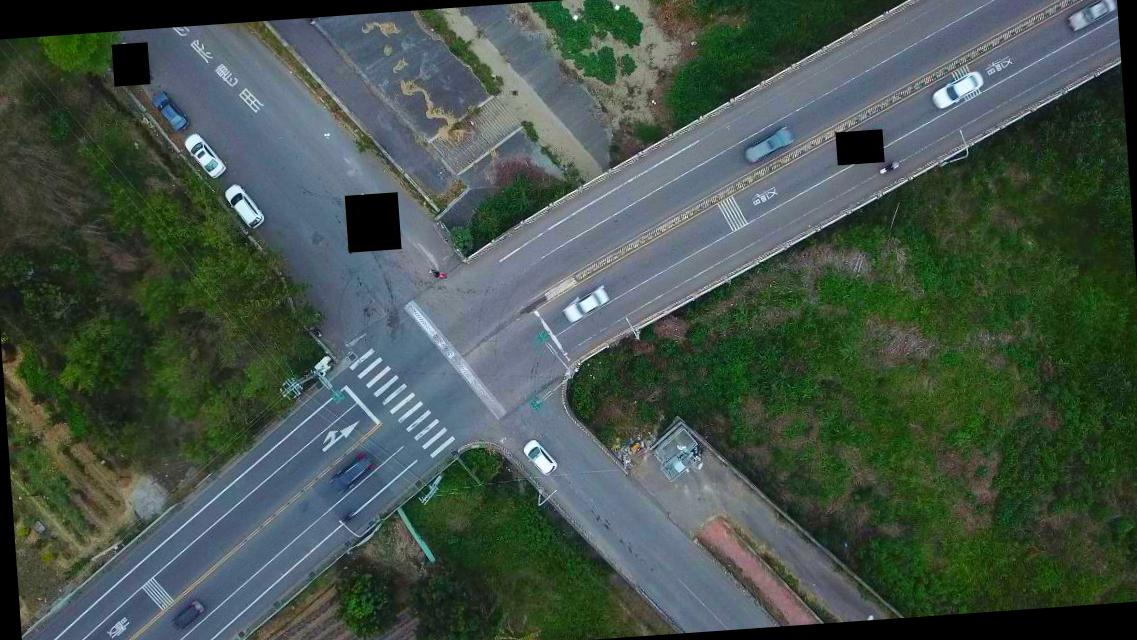vehicle: (928, 67, 988, 111), (325, 453, 377, 496), (222, 182, 265, 234), (558, 284, 611, 326), (741, 124, 796, 164), (183, 132, 227, 182), (1064, 0, 1118, 34), (150, 90, 189, 134), (521, 438, 559, 478), (166, 597, 206, 632)
